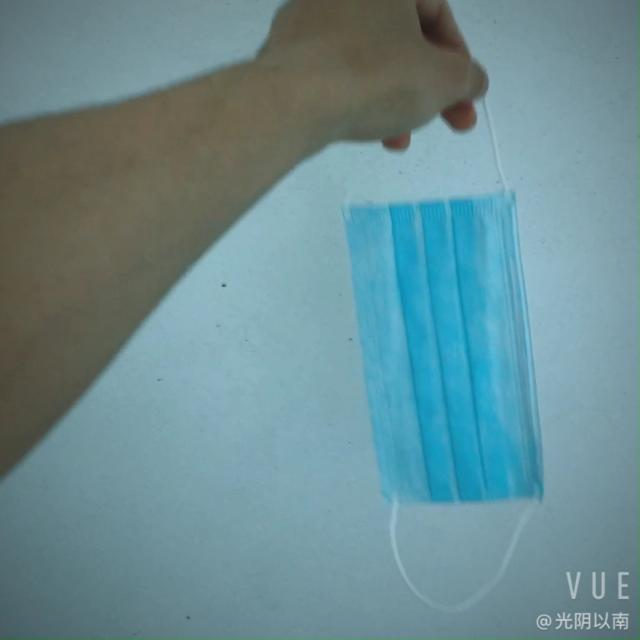face mask: (338, 174, 556, 516)
